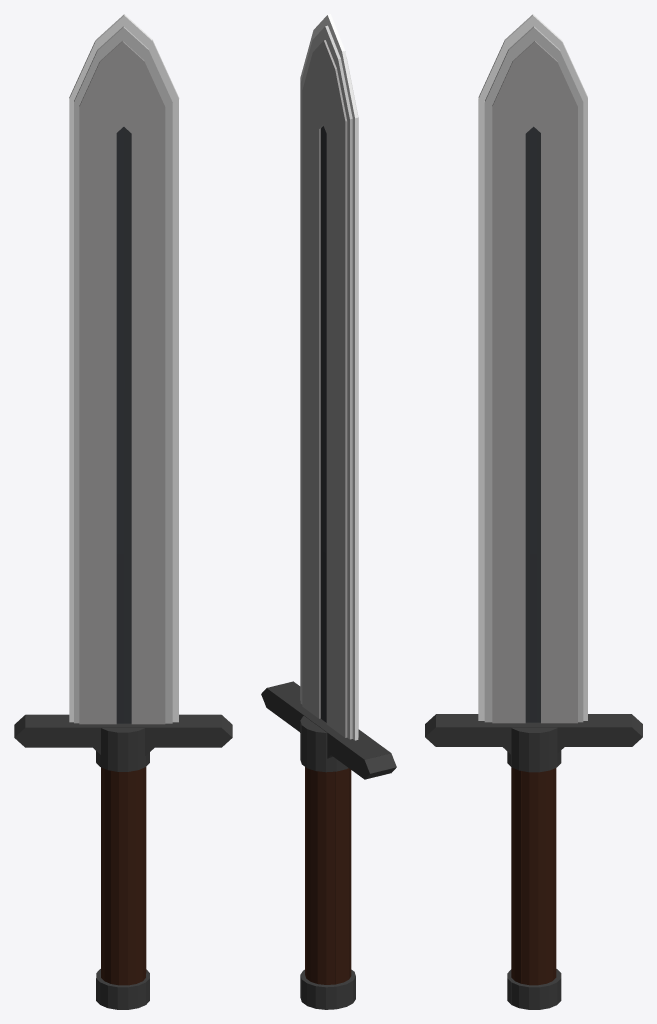
3 renders of one model, left to right at view 1: azimuth 90°, elevation 25°; view 2: azimuth 210°, elevation 25°; view 3: azimuth 270°, elevation 25°, orthographic.
Visible parts, largest first — view 1: 148e33c8-2f36-5e2e-6a52-fae27ed6d9bd, 151810dc-af76-fa82-ad5a-9c4bf4dba839, fb6928e3-756b-89d9-a3e1-f0869d471934, 11b81f09-0a6e-a055-031c-50367698178b, 5580f27a-d99c-8ca4-f9d8-828b4b530e3c, 53549632-ae5d-db99-b4a9-055dfc0623a0, 46c6e81f-a4e4-58a7-1279-8bd7cb4afb64, 75180035-d01c-ee90-8493-4835518d2603, 5335869c-7967-5cb1-d957-9504ccaf548f, 36aa2791-c672-5497-c950-1f2174f158fa, acf6ccf9-9aab-c58e-c38e-45e6a9ee04c6, b0b67bad-52a7-83bf-3bbf-3efb6287c439 (+9 smaller); view 2: 148e33c8-2f36-5e2e-6a52-fae27ed6d9bd, 151810dc-af76-fa82-ad5a-9c4bf4dba839, 11b81f09-0a6e-a055-031c-50367698178b, 5580f27a-d99c-8ca4-f9d8-828b4b530e3c, fb6928e3-756b-89d9-a3e1-f0869d471934, 6b27add5-c25f-004e-1755-c7da0e8d78a8, a4b4e011-1119-18bf-bc02-28ed8c687dc2, 53549632-ae5d-db99-b4a9-055dfc0623a0, f2af0976-754b-a8b0-59f3-48c1dd68c4b0, 019eea2f-0ac0-7e54-9bfd-d30c035808fc, 46c6e81f-a4e4-58a7-1279-8bd7cb4afb64, 75180035-d01c-ee90-8493-4835518d2603 (+13 smaller); view 3: 148e33c8-2f36-5e2e-6a52-fae27ed6d9bd, 151810dc-af76-fa82-ad5a-9c4bf4dba839, fb6928e3-756b-89d9-a3e1-f0869d471934, 11b81f09-0a6e-a055-031c-50367698178b, 5580f27a-d99c-8ca4-f9d8-828b4b530e3c, 53549632-ae5d-db99-b4a9-055dfc0623a0, 46c6e81f-a4e4-58a7-1279-8bd7cb4afb64, 1c27ed7f-b333-f00f-a82f-2ac84fae432b, 75180035-d01c-ee90-8493-4835518d2603, 412c0233-63b6-7c56-0d47-3f02ec6646a7, 019eea2f-0ac0-7e54-9bfd-d30c035808fc, d2fa09c8-cade-dca4-1019-2076322b8a37 (+8 smaller).
Boxes of the visible parts, x1,y1,x2,y2 form: 148e33c8-2f36-5e2e-6a52-fae27ed6d9bd: [79, 107, 116, 724]; 151810dc-af76-fa82-ad5a-9c4bf4dba839: [131, 107, 165, 724]; fb6928e3-756b-89d9-a3e1-f0869d471934: [116, 127, 131, 723]; 11b81f09-0a6e-a055-031c-50367698178b: [74, 102, 172, 723]; 5580f27a-d99c-8ca4-f9d8-828b4b530e3c: [69, 99, 178, 722]; 53549632-ae5d-db99-b4a9-055dfc0623a0: [25, 714, 145, 747]; 46c6e81f-a4e4-58a7-1279-8bd7cb4afb64: [102, 714, 221, 747]; 75180035-d01c-ee90-8493-4835518d2603: [97, 61, 165, 123]; 5335869c-7967-5cb1-d957-9504ccaf548f: [128, 770, 136, 985]; 36aa2791-c672-5497-c950-1f2174f158fa: [119, 772, 127, 985]; acf6ccf9-9aab-c58e-c38e-45e6a9ee04c6: [111, 770, 118, 985]; b0b67bad-52a7-83bf-3bbf-3efb6287c439: [79, 62, 141, 122]; 148e33c8-2f36-5e2e-6a52-fae27ed6d9bd: [326, 108, 347, 737]; 151810dc-af76-fa82-ad5a-9c4bf4dba839: [302, 90, 320, 718]; 11b81f09-0a6e-a055-031c-50367698178b: [300, 84, 358, 739]; 5580f27a-d99c-8ca4-f9d8-828b4b530e3c: [300, 79, 358, 740]; fb6928e3-756b-89d9-a3e1-f0869d471934: [320, 126, 326, 722]; 6b27add5-c25f-004e-1755-c7da0e8d78a8: [317, 771, 326, 984]; a4b4e011-1119-18bf-bc02-28ed8c687dc2: [326, 771, 334, 984]; 53549632-ae5d-db99-b4a9-055dfc0623a0: [305, 714, 390, 779]; f2af0976-754b-a8b0-59f3-48c1dd68c4b0: [336, 770, 343, 984]; 019eea2f-0ac0-7e54-9bfd-d30c035808fc: [310, 769, 317, 983]; 46c6e81f-a4e4-58a7-1279-8bd7cb4afb64: [266, 681, 324, 731]; 75180035-d01c-ee90-8493-4835518d2603: [302, 52, 335, 123]; 148e33c8-2f36-5e2e-6a52-fae27ed6d9bd: [541, 107, 577, 723]; 151810dc-af76-fa82-ad5a-9c4bf4dba839: [492, 107, 525, 723]; fb6928e3-756b-89d9-a3e1-f0869d471934: [525, 126, 540, 722]; 11b81f09-0a6e-a055-031c-50367698178b: [484, 101, 583, 722]; 5580f27a-d99c-8ca4-f9d8-828b4b530e3c: [478, 97, 587, 720]; 53549632-ae5d-db99-b4a9-055dfc0623a0: [512, 714, 631, 746]; 46c6e81f-a4e4-58a7-1279-8bd7cb4afb64: [436, 714, 548, 746]; 1c27ed7f-b333-f00f-a82f-2ac84fae432b: [529, 772, 538, 985]; 75180035-d01c-ee90-8493-4835518d2603: [492, 61, 559, 123]; 412c0233-63b6-7c56-0d47-3f02ec6646a7: [521, 771, 529, 984]; 019eea2f-0ac0-7e54-9bfd-d30c035808fc: [538, 771, 546, 984]; d2fa09c8-cade-dca4-1019-2076322b8a37: [514, 769, 521, 983].
Bounding box in the file's own units: 1.05 × 20.67 × 4.16.
4 materials, 4 textured.
